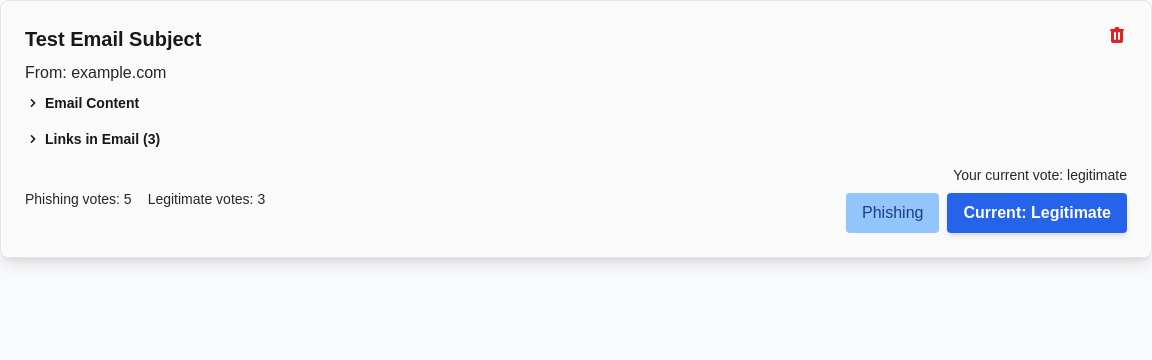
EmailCard › toggles URLs visibility when clicking links button
Expected: the text "example.com (2 links)" is not shown
Step 1. Click the button "Links in Email (3)" → x=93, y=139, box x1=25 y1=129 x2=160 y2=149
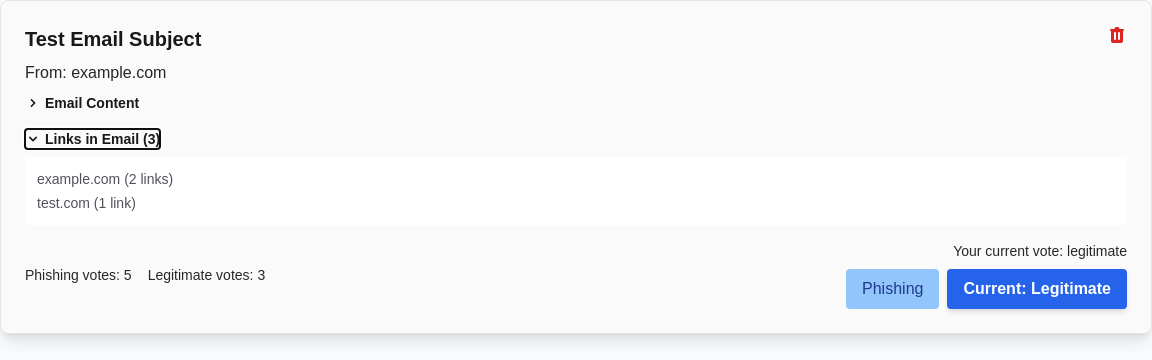
Expected: the list item "example.com (2 links)" is shown, x1=37 y1=171 x2=173 y2=187
Expected: the list item "test.com (1 link)" is shown, x1=37 y1=195 x2=136 y2=211
Step 2. Click the button "Links in Email (3)" → x=93, y=139, box x1=25 y1=129 x2=160 y2=149
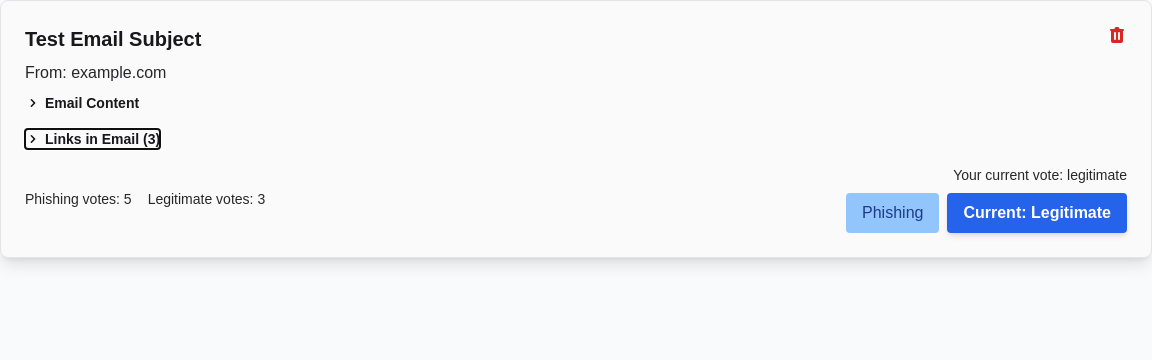
Expected: the list item "example.com (2 links)" is gone
